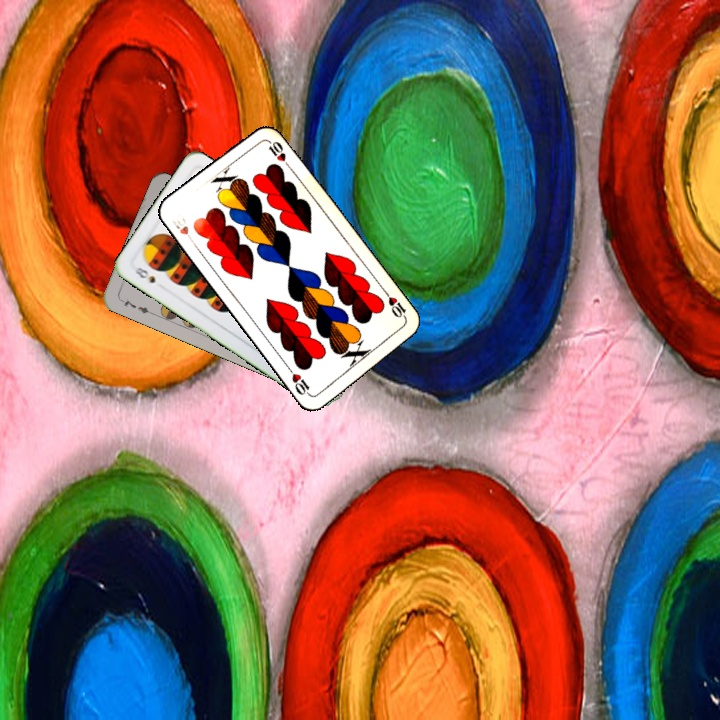E7: (116, 295, 155, 317)
H10: (168, 211, 197, 247), (380, 287, 409, 322)
S8: (131, 263, 158, 286)
